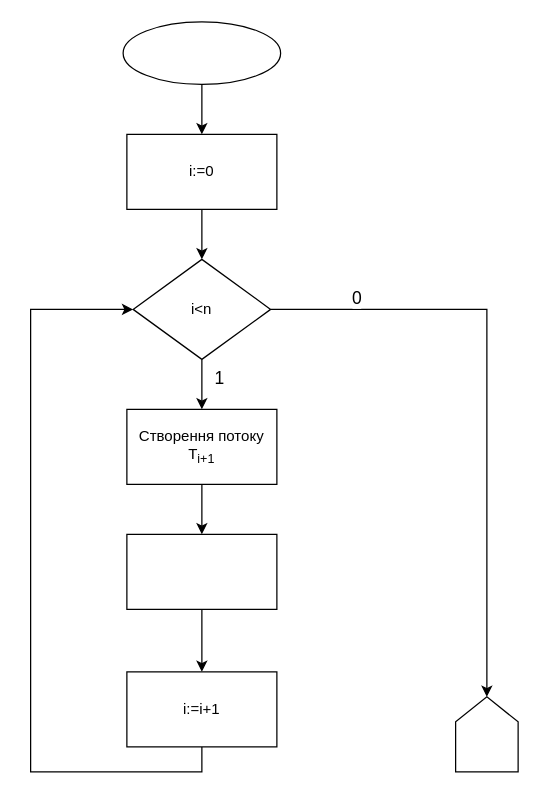
Image size: 540x804. Some labels were removed from this diagram. The centre of each missing label's shape, as x and y in pixels:
"Запуск потоку Т і+1" goes at pixel 201 571.
"Початок" goes at pixel 201 52.
